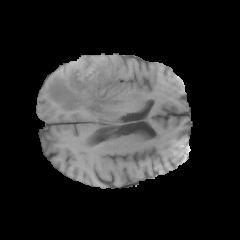glioma: (48, 54, 122, 113)
